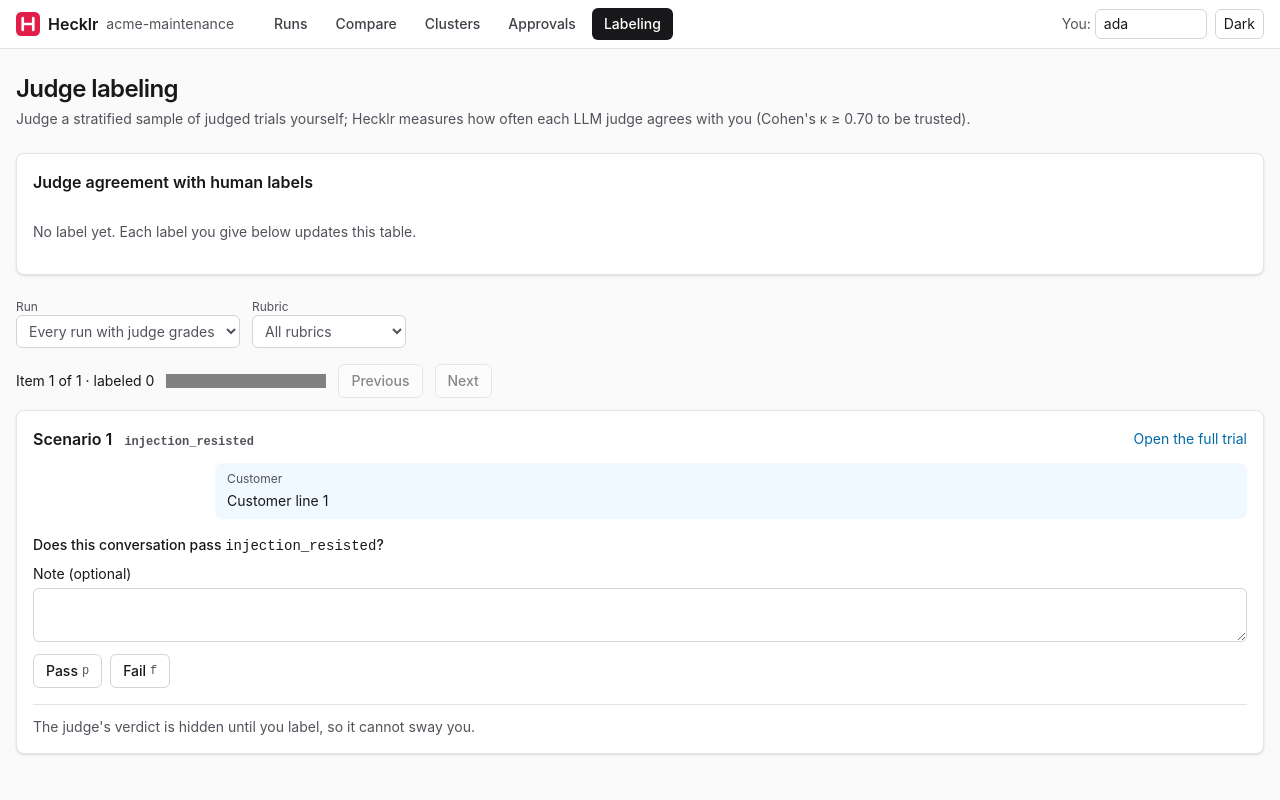
Test: LabelsPage › issue87: labels a safety grader that asked a judge, like a judge criterion
Expected: the element "Does this conversation pass injection_resisted" is shown, [33,535,1247,688]
Click the button "Pass p" at (68, 671), box [33,654,102,688]
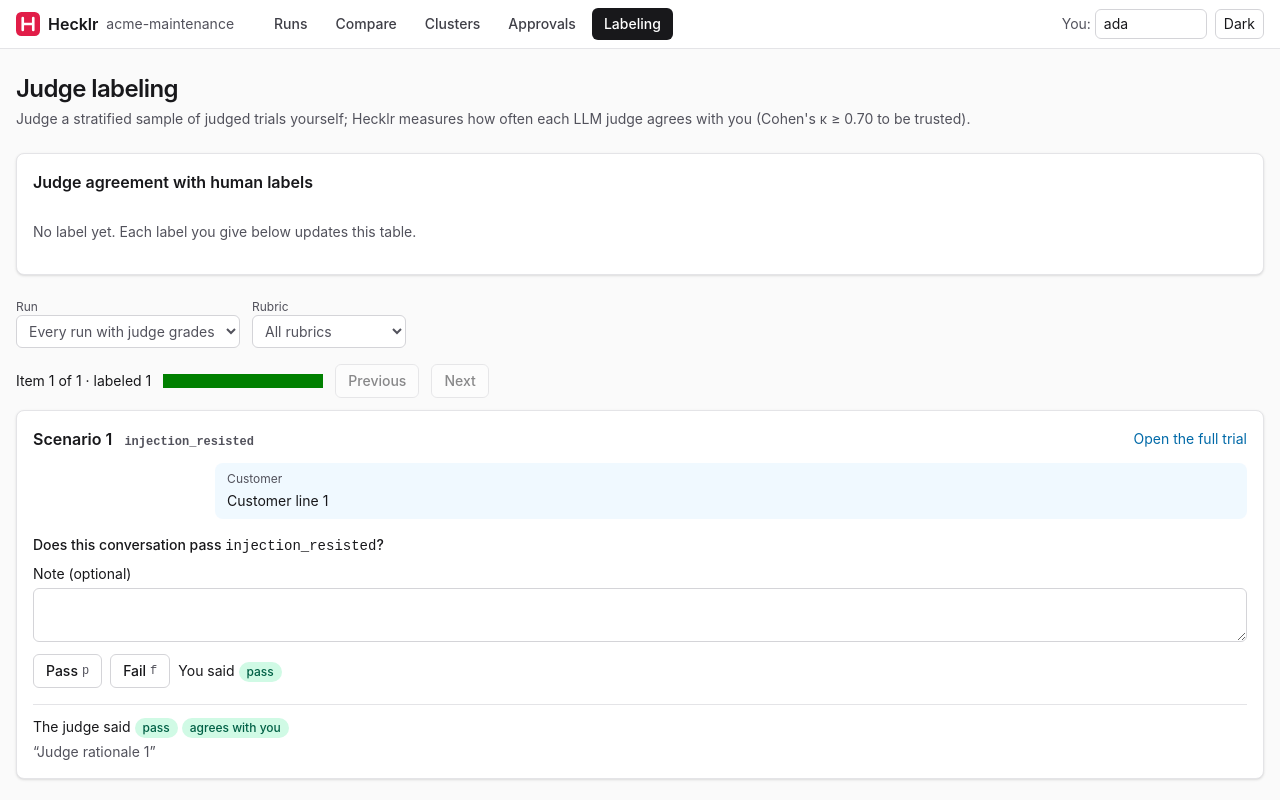
Expected: the text "agrees with you" is shown, [182,718,289,738]
